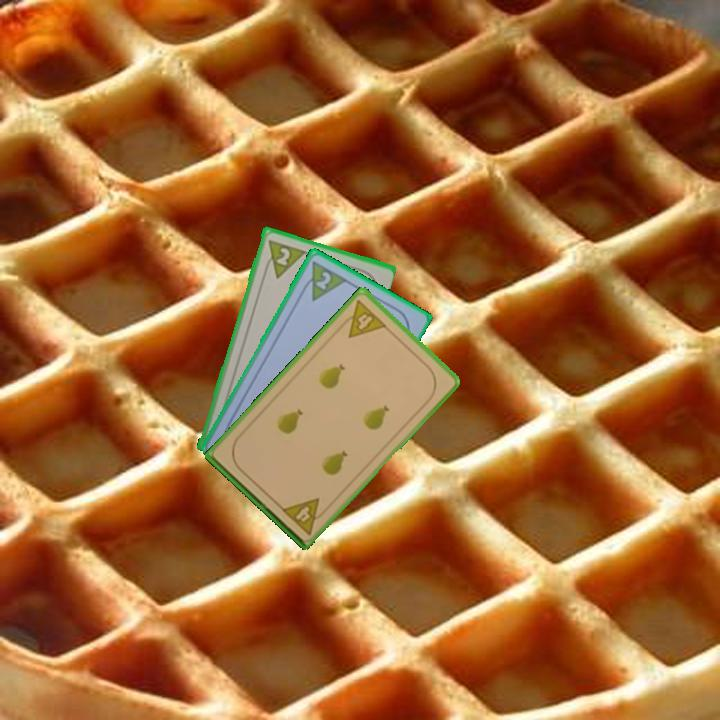2p: (297, 257, 349, 303), (259, 236, 307, 281)
4p: (336, 296, 389, 340), (278, 494, 331, 538)
